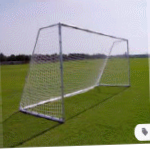goals: (19, 21, 133, 125)
